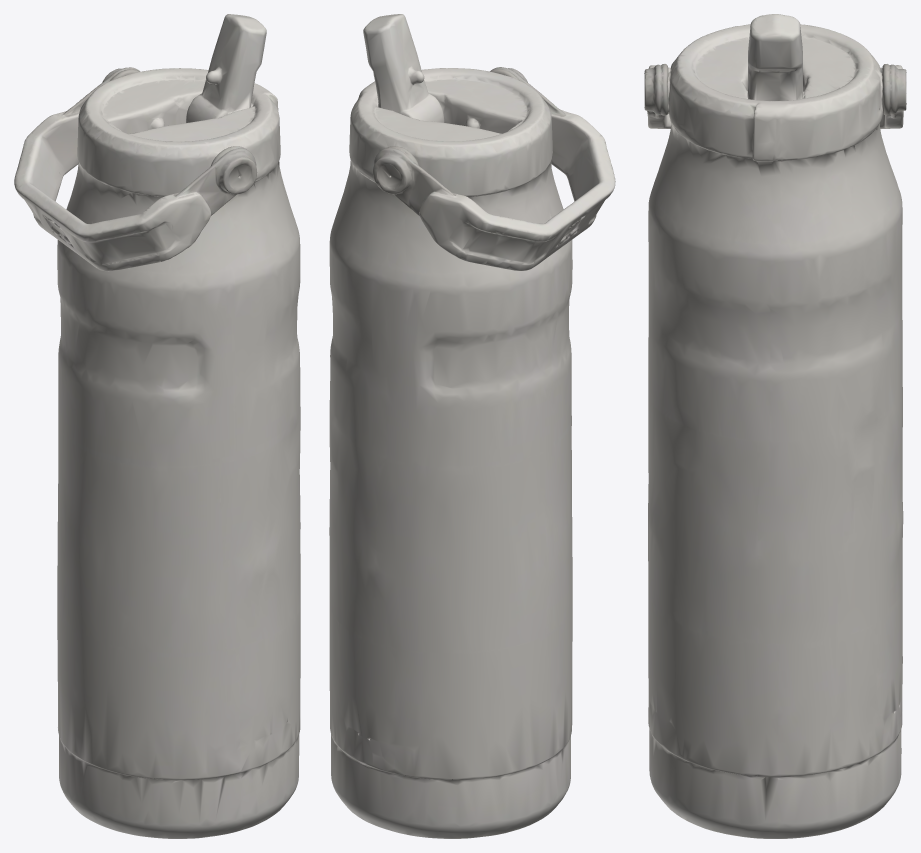
The picture shows the model from 3 angles, left to right: view 1: azimuth 30°, elevation 25°; view 2: azimuth 150°, elevation 25°; view 3: azimuth 270°, elevation 25°; orthographic projection. The views are drawn at different scales.
Parts seen in each view (by area): view 1: tripo_node_61cd0240-2288-43f1-9046-e3097475911e; view 2: tripo_node_61cd0240-2288-43f1-9046-e3097475911e; view 3: tripo_node_61cd0240-2288-43f1-9046-e3097475911e.
Boxes of the visible parts, x1=… form: tripo_node_61cd0240-2288-43f1-9046-e3097475911e: x1=14, y1=14, x2=300, y2=838; tripo_node_61cd0240-2288-43f1-9046-e3097475911e: x1=329, y1=14, x2=615, y2=838; tripo_node_61cd0240-2288-43f1-9046-e3097475911e: x1=644, y1=14, x2=906, y2=838.
Size of the model in its own units: 0.3274 by 1 by 0.2945.
Materials: 1 (1 with a texture image).
